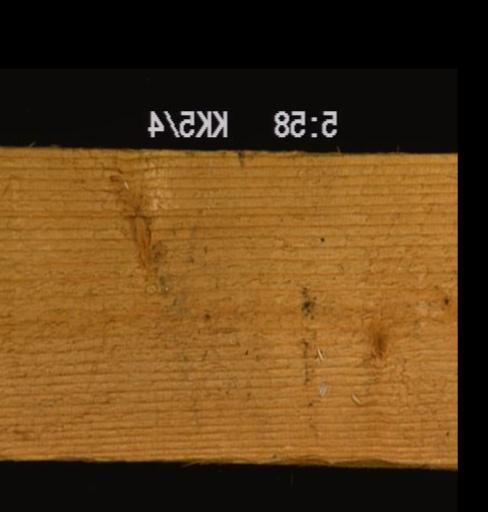small_knot: (356, 306, 395, 367), (437, 289, 455, 308), (198, 304, 215, 324)
